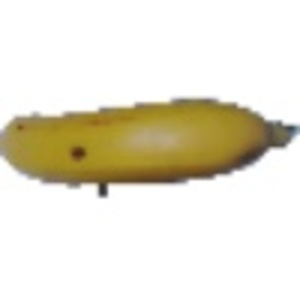banana: (1, 94, 290, 192)
